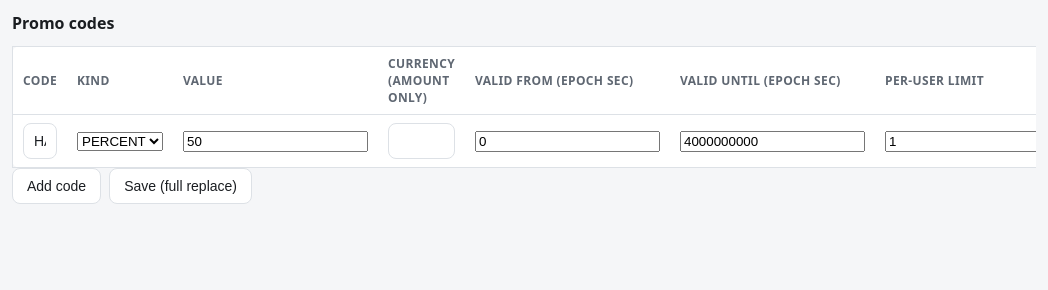
Test: PromosPage (P7-6 promo editor, D75 full-replace) › renders the live codes; save PATCHes the WHOLE document and shows the version
Type "X" into the field with test id "promos-code-0" at (40, 141), box left=23, top=123, right=57, bottom=159
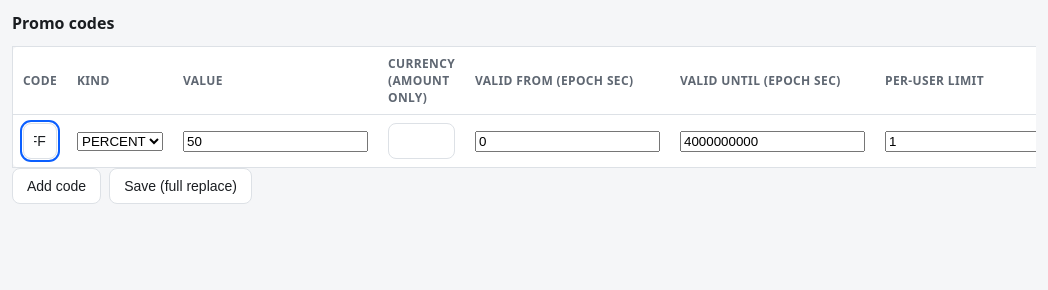
Click the button with test id "promos-save" at (181, 186), box left=109, top=168, right=252, bottom=204
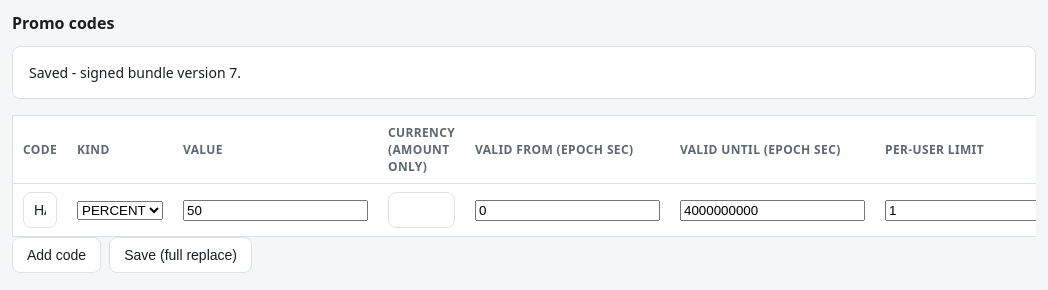
Check: the message "Saved - signed bundle version 7." is shown, box left=12, top=46, right=1036, bottom=99
Check: the message with test id "promos-saved" shows "7", box left=29, top=63, right=241, bottom=82
